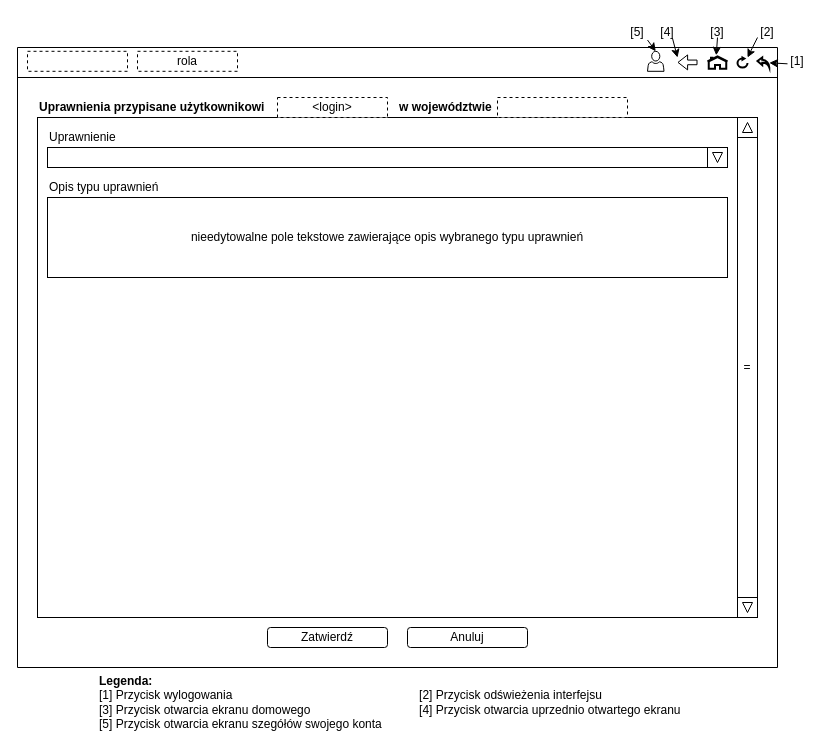
This 825x754 diagram has some shape labels left out. The box of each missing label's shape, as (x1, y1, x2, y2) in pixels:
<nazwa województwa>: (496, 96, 628, 118)
lista jednokrotnego wyboru zawierająca typy uprawnień: (46, 146, 708, 168)
login: (26, 50, 128, 71)
